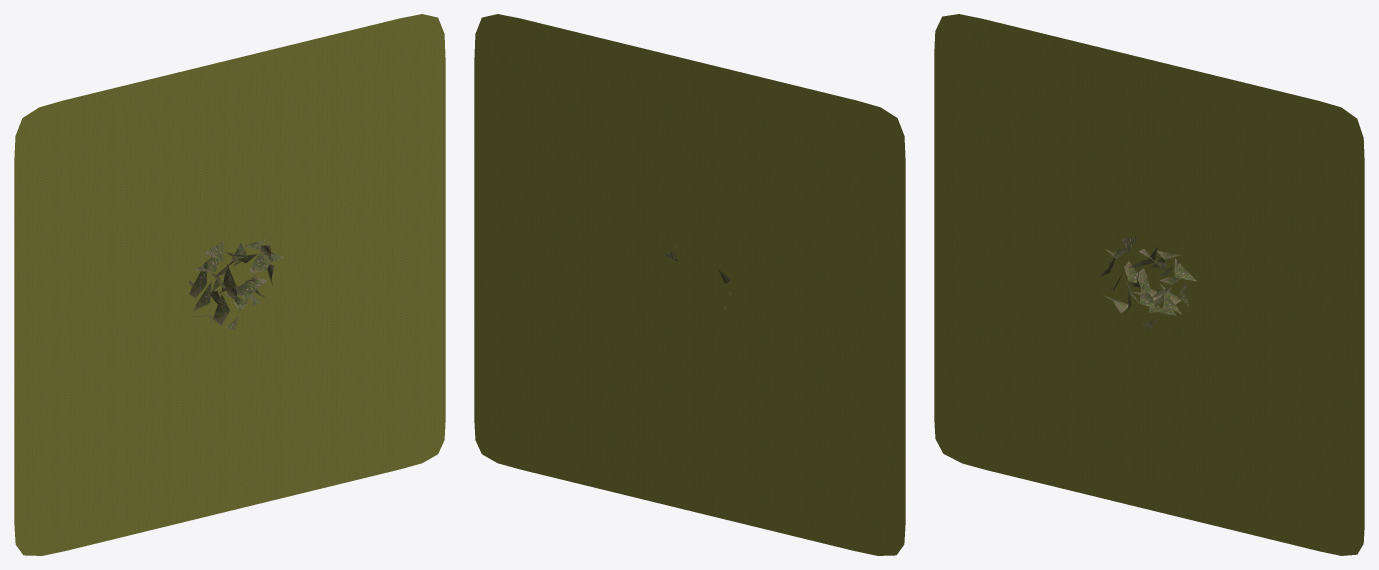
File: grass1.glb
3 views of the same model, side by side, from view 1: azimuth 30°, elevation 25°; view 2: azimuth 150°, elevation 25°; view 3: azimuth 330°, elevation 25° (orthographic).
Visible parts, largest first — view 1: _Grass Generic Medium Sparse, Grass Generic Small; view 2: _Grass Generic Medium Sparse; view 3: _Grass Generic Medium Sparse, Grass Generic Small.
Boxes of the visible parts, <box> form: _Grass Generic Medium Sparse: <box>14,14,445,555</box>; Grass Generic Small: <box>188,239,283,329</box>; _Grass Generic Medium Sparse: <box>474,14,905,555</box>; _Grass Generic Medium Sparse: <box>934,14,1364,555</box>; Grass Generic Small: <box>1099,236,1196,329</box>.
Bounding box in the file's own units: 10 × 10 × 0.4878.
Materials: 2 (2 with a texture image).
